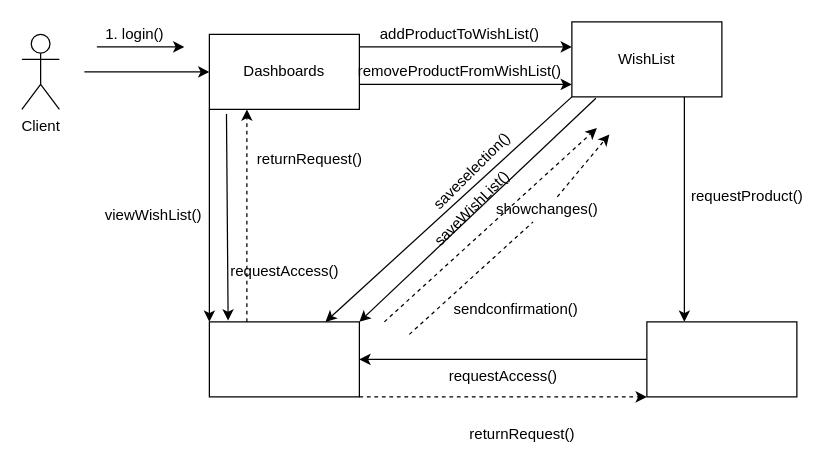
Image size: 831x469. Some labels were removed from this diagram. Here are the shapes that lost their labels. From the top down, the centre of each, then its label:
At point (283, 359): "Database".
At point (721, 359): "Product".
